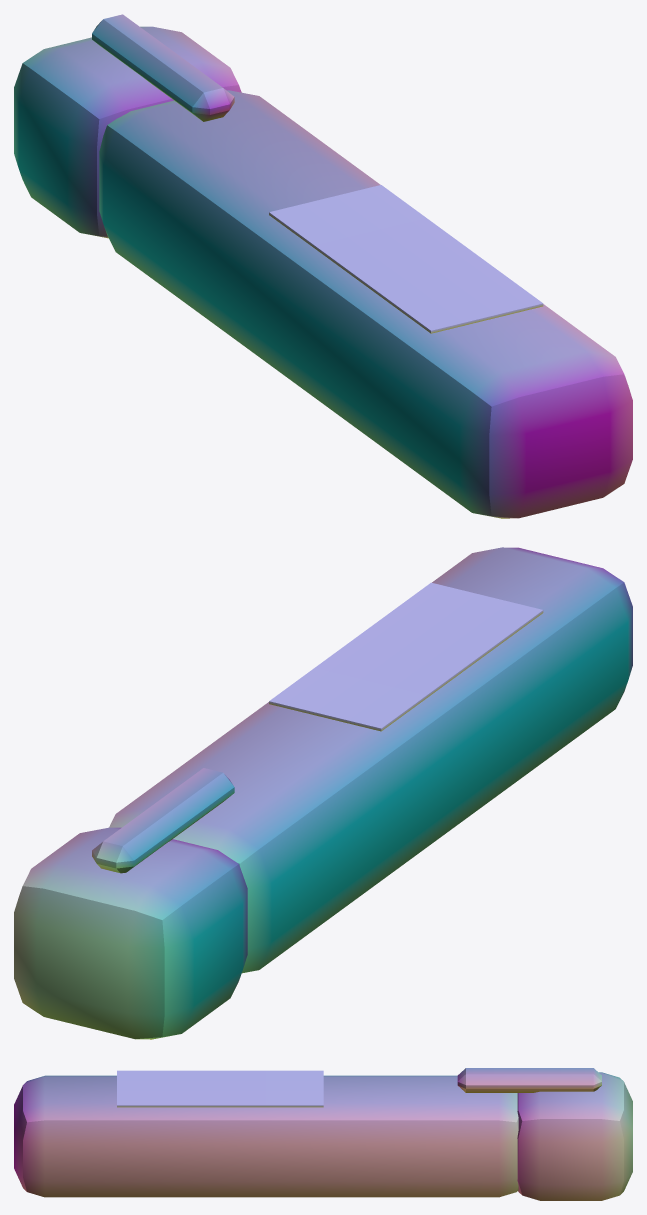
The model's file is env_deco_highlighter.glb.
3 renders of one model, top to bottom at view 1: azimuth 30°, elevation 25°; view 2: azimuth 150°, elevation 25°; view 3: azimuth 270°, elevation 25°, orthographic. The views are drawn at different scales.
Parts seen in each view (by area): view 1: env_deco_highlighter_mesh; view 2: env_deco_highlighter_mesh; view 3: env_deco_highlighter_mesh.
Boxes of the visible parts, left/top/right/bottom form: env_deco_highlighter_mesh: left=14, top=14, right=632, bottom=518; env_deco_highlighter_mesh: left=14, top=547, right=632, bottom=1039; env_deco_highlighter_mesh: left=14, top=1068, right=632, bottom=1200.
Size of the model in its own units: 0.125 by 0.1225 by 0.6.
